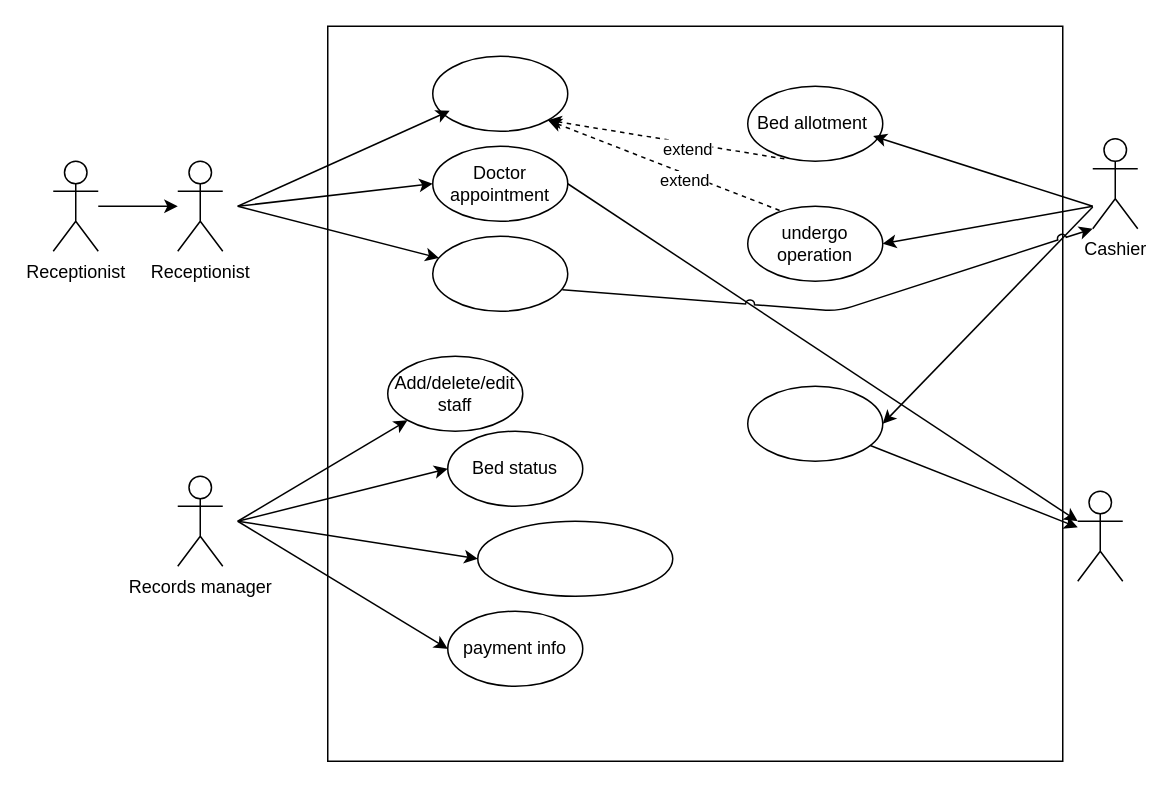
The diagram is 1172 pixels wide and 788 high, and some of its shapes have lost their labels. Here are the shapes that lost their labels. From the top down, the centre of each, then its label:
At pixel 499 93: "Admission".
At pixel 499 273: "Test appointment".
At pixel 814 423: "draw salary".
At pixel 1099 535: "Doctors".
At pixel 574 558: "Admission/discharge info".
